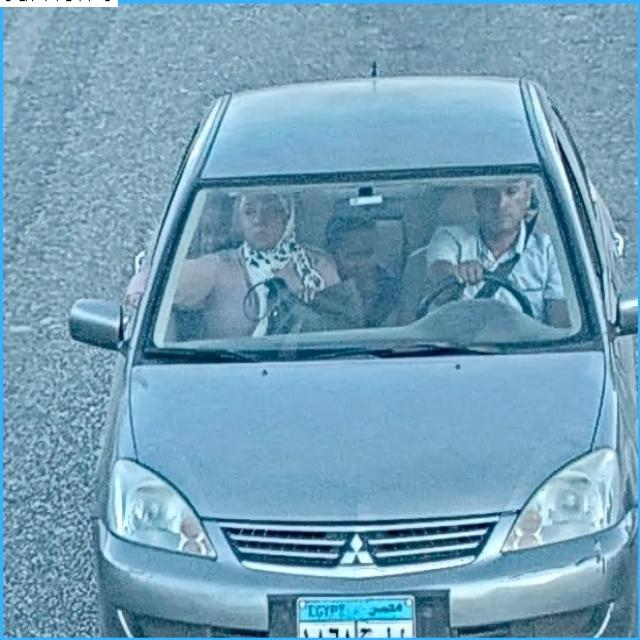windshield: (150, 178, 582, 347)
